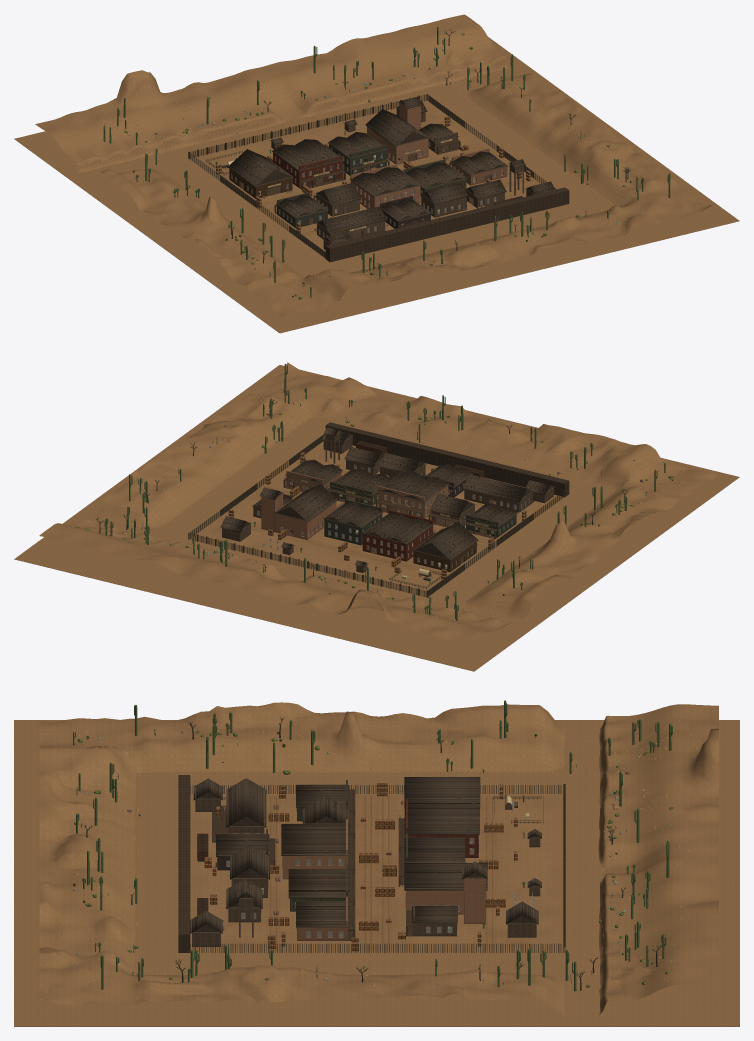
Rendered from frontier.glb.
The picture shows the model from 3 angles, top to bottom: view 1: azimuth 30°, elevation 25°; view 2: azimuth 150°, elevation 25°; view 3: azimuth 270°, elevation 25°; orthographic projection. The views are drawn at different scales.
Parts seen in each view (by area): view 1: ground-Perdition:ground-mesh, ground-Perdition:wood-mesh, Perdition creek fence / rail line / canyon boundaries:wood-m, building-saloon:wood-mesh, building-bank:stone-mesh, building-hotel:wood-mesh, building-church:stone-mesh, ground-Perdition:floor-mesh, building-livery:wood-mesh, Perdition dressed interiors and purposeful cover:wood-mesh, building-stage_line:wood-mesh, building-hay_barn:wood-mesh (+2 smaller); view 2: ground-Perdition:ground-mesh, ground-Perdition:wood-mesh, Perdition creek fence / rail line / canyon boundaries:wood-m, building-saloon:wood-mesh, Perdition dressed interiors and purposeful cover:wood-mesh, ground-Perdition:floor-mesh, building-hotel:wood-mesh, building-church:stone-mesh, building-bank:stone-mesh, building-livery:wood-mesh, building-depot:wood-mesh, building-stage_line:wood-mesh (+2 smaller); view 3: ground-Perdition:ground-mesh, ground-Perdition:wood-mesh, Perdition creek fence / rail line / canyon boundaries:wood-m, ground-Perdition:floor-mesh, Perdition dressed interiors and purposeful cover:wood-mesh, building-church_tower:stone-mesh, building-church:stone-mesh, building-bank:stone-mesh, building-saloon:wood-mesh, building-assay:wood-mesh, building-jail:stone-mesh.
Boxes of the visible parts, x1=… form: ground-Perdition:ground-mesh: x1=14, y1=14, x2=739, y2=333; ground-Perdition:wood-mesh: x1=227, y1=96, x2=554, y2=244; Perdition creek fence / rail line / canyon boundaries:wood-m: x1=188, y1=94, x2=569, y2=262; building-saloon:wood-mesh: x1=273, y1=140, x2=344, y2=188; building-bank:stone-mesh: x1=350, y1=164, x2=420, y2=208; building-hotel:wood-mesh: x1=329, y1=133, x2=386, y2=175; building-church:stone-mesh: x1=367, y1=126, x2=428, y2=164; ground-Perdition:floor-mesh: x1=274, y1=139, x2=460, y2=239; building-livery:wood-mesh: x1=229, y1=157, x2=292, y2=198; Perdition dressed interiors and purposeful cover:wood-mesh: x1=205, y1=142, x2=522, y2=227; building-stage_line:wood-mesh: x1=277, y1=192, x2=327, y2=227; building-hay_barn:wood-mesh: x1=421, y1=193, x2=466, y2=217; ground-Perdition:ground-mesh: x1=14, y1=362, x2=739, y2=671; ground-Perdition:wood-mesh: x1=220, y1=427, x2=555, y2=567; Perdition creek fence / rail line / canyon boundaries:wood-m: x1=188, y1=422, x2=569, y2=597; building-saloon:wood-mesh: x1=362, y1=510, x2=433, y2=561; Perdition dressed interiors and purposeful cover:wood-mesh: x1=283, y1=441, x2=533, y2=589; ground-Perdition:floor-mesh: x1=284, y1=478, x2=534, y2=550; building-hotel:wood-mesh: x1=324, y1=499, x2=382, y2=545; building-church:stone-mesh: x1=275, y1=502, x2=336, y2=539; building-bank:stone-mesh: x1=378, y1=485, x2=448, y2=518; building-livery:wood-mesh: x1=413, y1=531, x2=476, y2=572; building-depot:wood-mesh: x1=464, y1=487, x2=532, y2=512; building-stage_line:wood-mesh: x1=466, y1=505, x2=516, y2=536; ground-Perdition:ground-mesh: x1=14, y1=702, x2=739, y2=1026; ground-Perdition:wood-mesh: x1=190, y1=777, x2=541, y2=933; Perdition creek fence / rail line / canyon boundaries:wood-m: x1=178, y1=775, x2=565, y2=952; ground-Perdition:floor-mesh: x1=212, y1=789, x2=474, y2=940; Perdition dressed interiors and purposeful cover:wood-mesh: x1=197, y1=791, x2=543, y2=940; building-church_tower:stone-mesh: x1=464, y1=878, x2=485, y2=923; building-church:stone-mesh: x1=406, y1=890, x2=463, y2=914; building-bank:stone-mesh: x1=282, y1=819, x2=347, y2=879; building-saloon:wood-mesh: x1=406, y1=799, x2=478, y2=857; building-assay:wood-mesh: x1=413, y1=901, x2=457, y2=936; building-jail:stone-mesh: x1=297, y1=896, x2=347, y2=940.
Size of the model in its own units: 200 by 19.35 by 200.
Materials: 18 (18 with a texture image).
